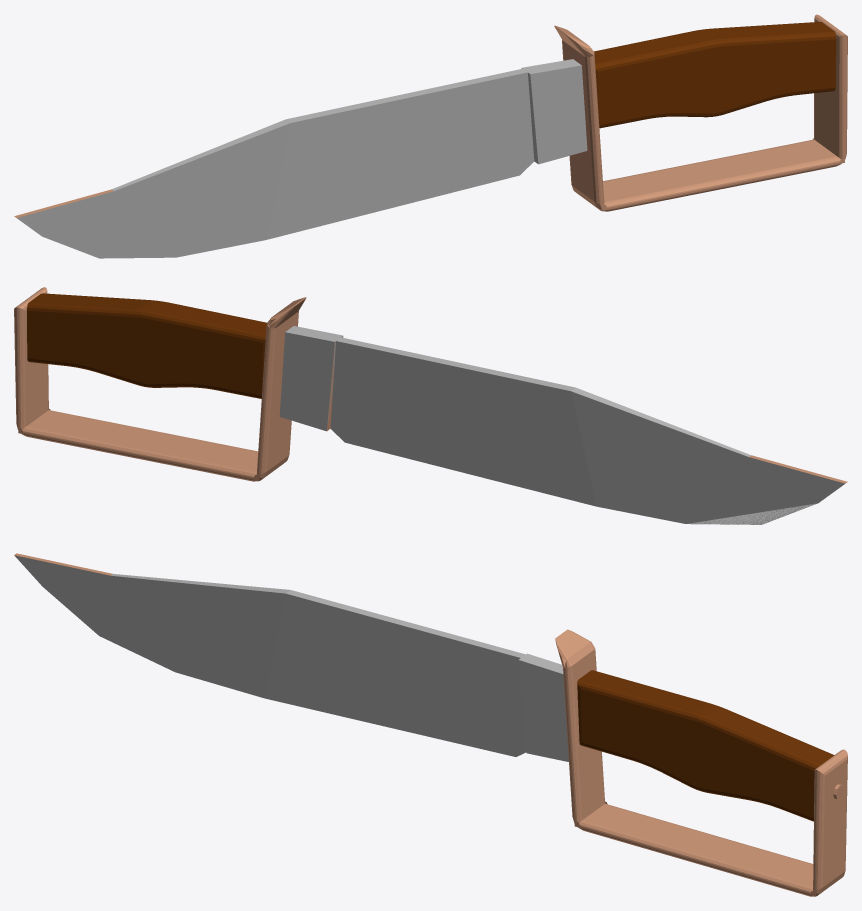
File: knife.fbx
3 views of the same model, one above another, from view 1: azimuth 30°, elevation 25°; view 2: azimuth 150°, elevation 25°; view 3: azimuth 330°, elevation 25° (orthographic).
Visible parts, largest first — view 1: knife; view 2: knife; view 3: knife.
Part boxes in pixels (box(x1,y1,x2,y2)): knife: box(14, 14, 847, 258); knife: box(14, 287, 847, 524); knife: box(14, 553, 847, 896).
Bounding box in the file's own units: 50.12 × 11.14 × 3.09.
